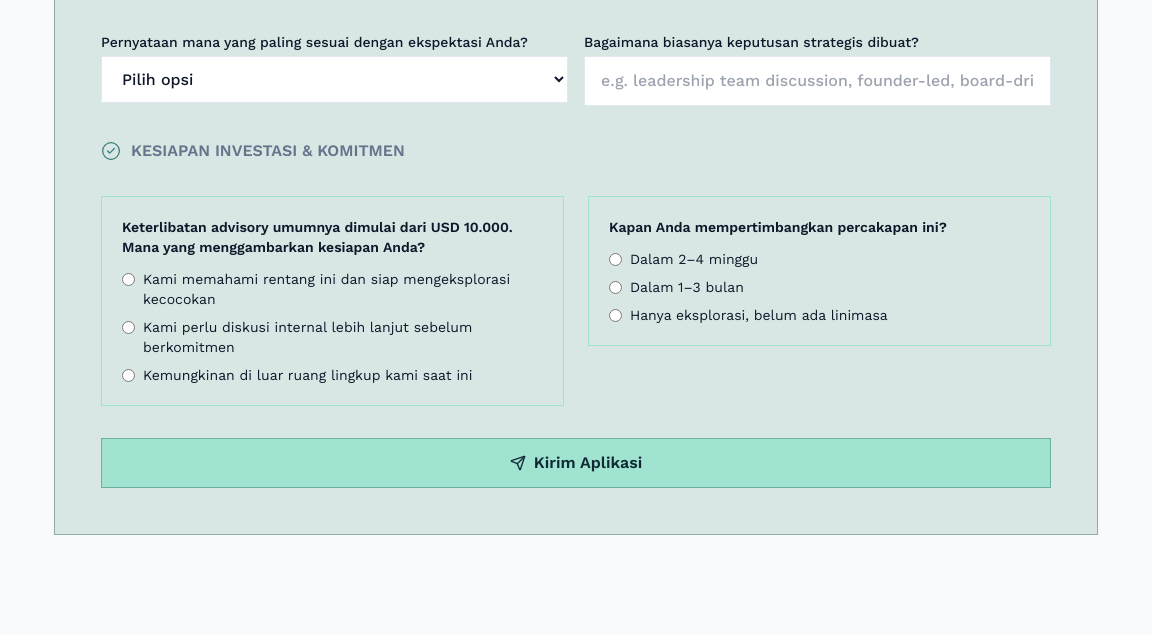
Test case: ApplyPage › shows required errors on empty submit
(page scrolled)
What coordinates should you click on to do the following:
click the button "Kirim Aplikasi"
I would click on:
 (576, 463)
Its box is top-left (101, 438), bottom-right (1051, 488).
(page scrolled)
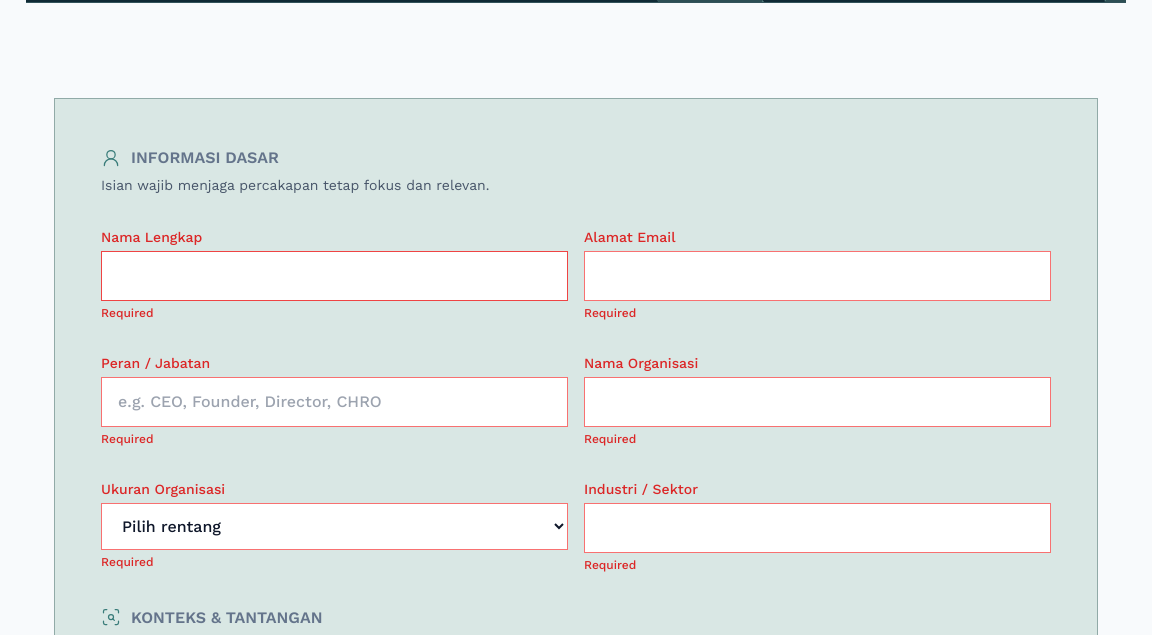
Now the text "Required" below "Nama Lengkap" is shown, box top-left (101, 306), bottom-right (153, 320)
